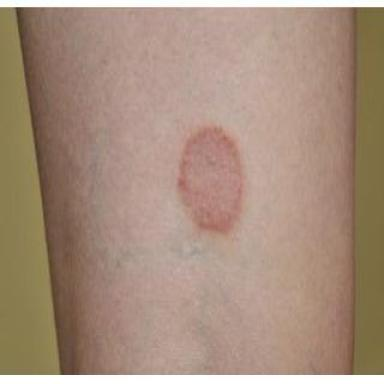Tinea-Corporis: (178, 127, 243, 232)
